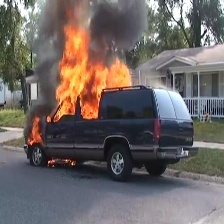fire: (53, 22, 134, 122), (26, 115, 43, 144), (46, 154, 78, 168)
